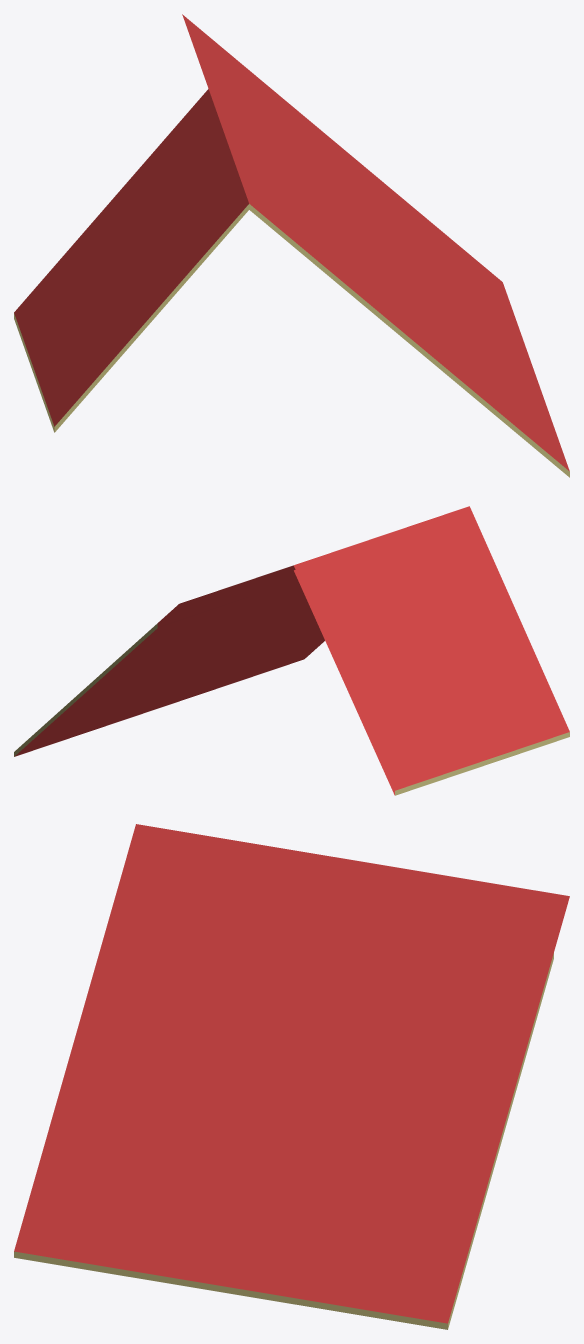
3 views of the same model, one above another, from view 1: azimuth 30°, elevation 25°; view 2: azimuth 150°, elevation 25°; view 3: azimuth 270°, elevation 25° (orthographic). The views are drawn at different scales.
Bounding box in the file's own units: 9.63 × 8 × 4.81.
